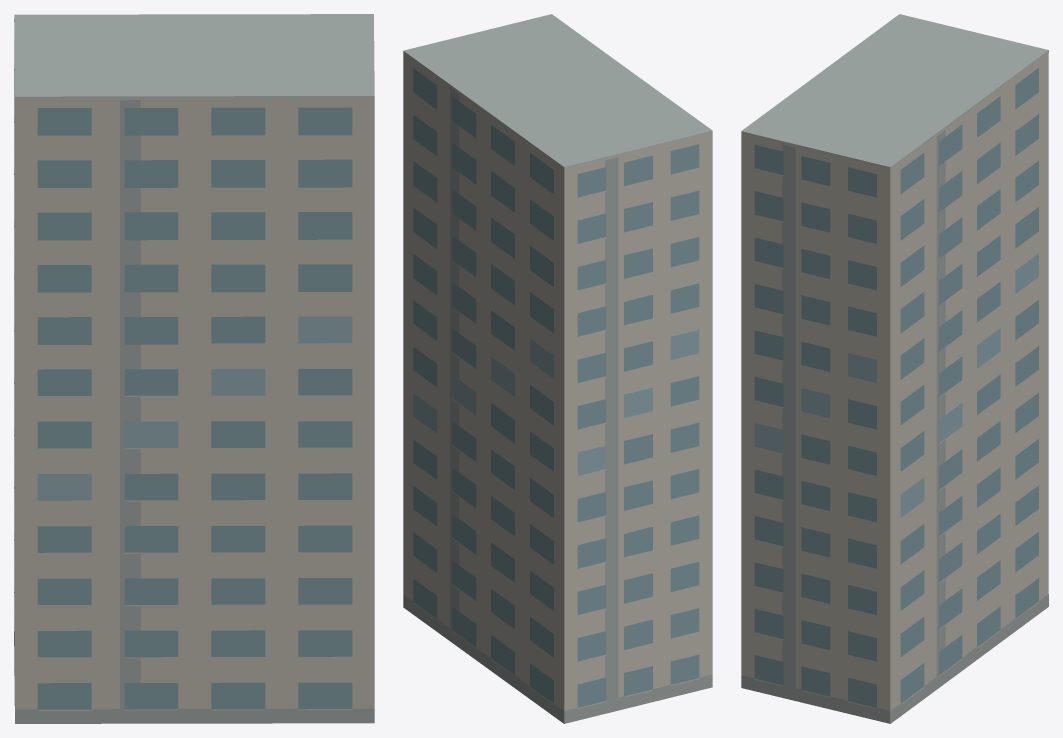
The model's file is residential-d2727e6d-c346-4c6c-b262-8bbf56ee326f.glb.
3 views of the same model, side by side, from view 1: azimuth 30°, elevation 25°; view 2: azimuth 150°, elevation 25°; view 3: azimuth 270°, elevation 25° (orthographic). The views are drawn at different scales.
Visible parts, largest first — view 1: residential-d2727e6d-c346-4c6c-b262-8bbf56ee326f.tmp; view 2: residential-d2727e6d-c346-4c6c-b262-8bbf56ee326f.tmp; view 3: residential-d2727e6d-c346-4c6c-b262-8bbf56ee326f.tmp.
Part boxes in pixels (x1,y1,x2,y2): residential-d2727e6d-c346-4c6c-b262-8bbf56ee326f.tmp: (14,14,374,723); residential-d2727e6d-c346-4c6c-b262-8bbf56ee326f.tmp: (403,14,712,723); residential-d2727e6d-c346-4c6c-b262-8bbf56ee326f.tmp: (741,14,1048,723).
Size of the model in its own units: 23.61 by 40 by 20.04.
